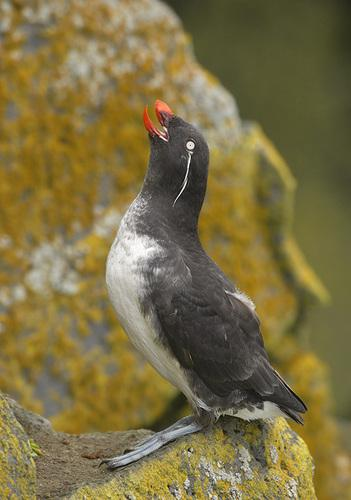007.Parakeet_Auklet: (99, 94, 308, 471)
